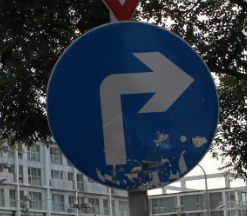right_turn: (46, 21, 219, 190)
